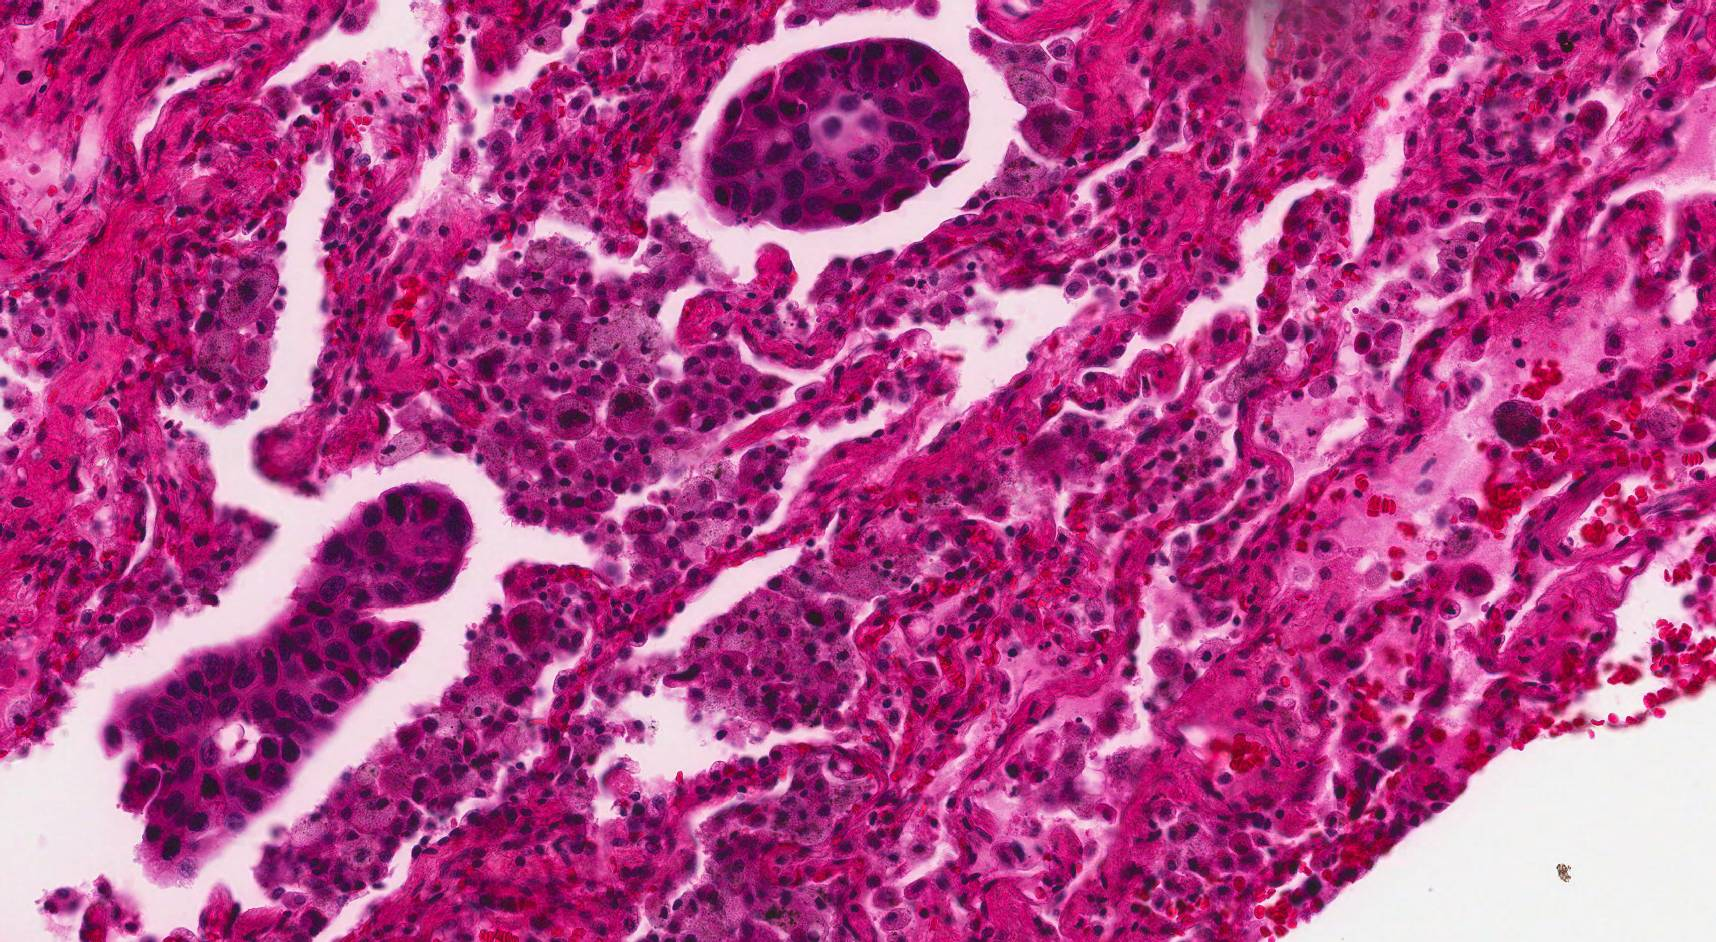stas: (101, 481, 473, 891), (700, 40, 971, 229)
